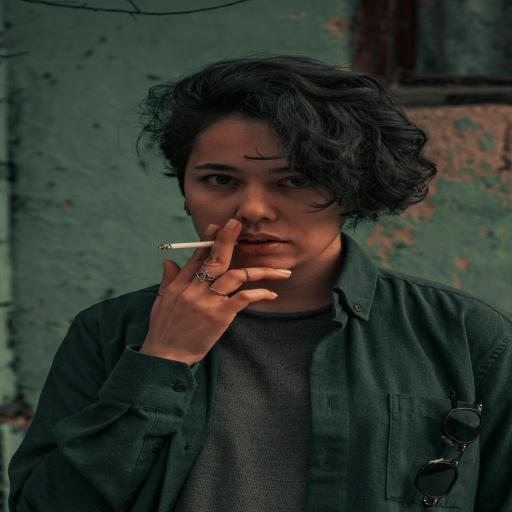terdeteksi merokok: (146, 132, 316, 292)
